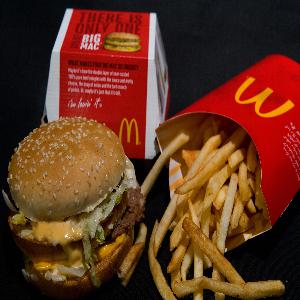cheeseburger_475cal: (5, 113, 149, 286)
fries_350cal: (147, 123, 290, 300)
